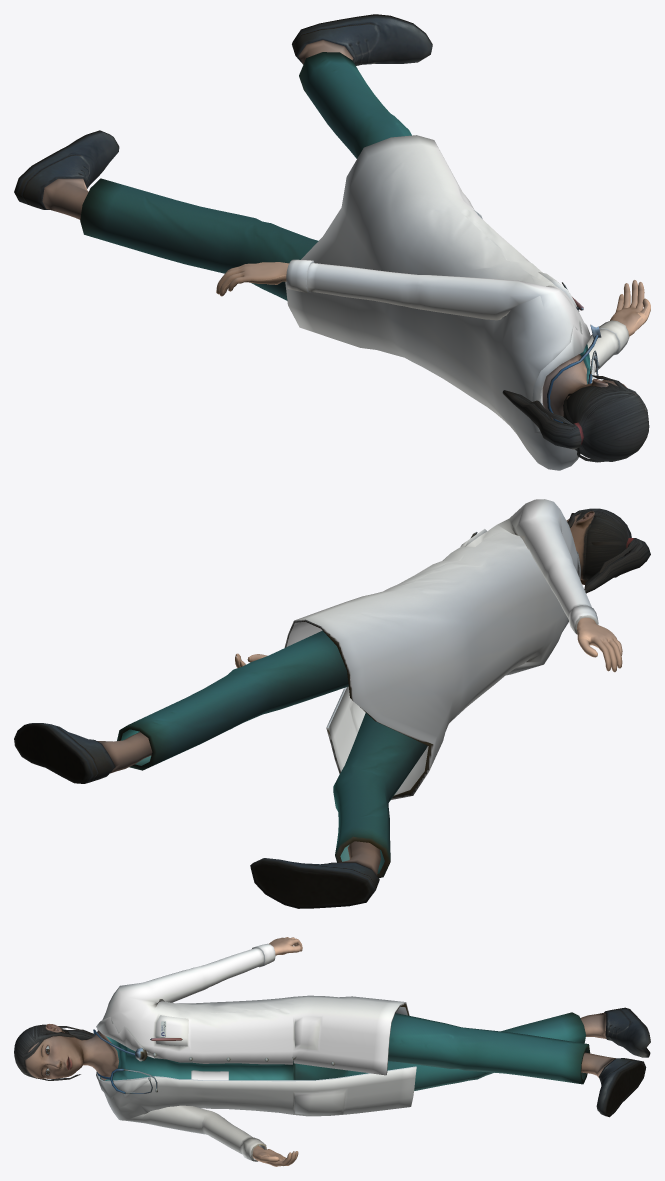
File: walk.obj
3 views of the same model, one above another, from view 1: azimuth 30°, elevation 25°; view 2: azimuth 150°, elevation 25°; view 3: azimuth 270°, elevation 25° (orthographic). The views are drawn at different scales.
Size of the model in its own units: 0.9417 by 0.3713 by 1.7.
Materials: 1 (1 with a texture image).
